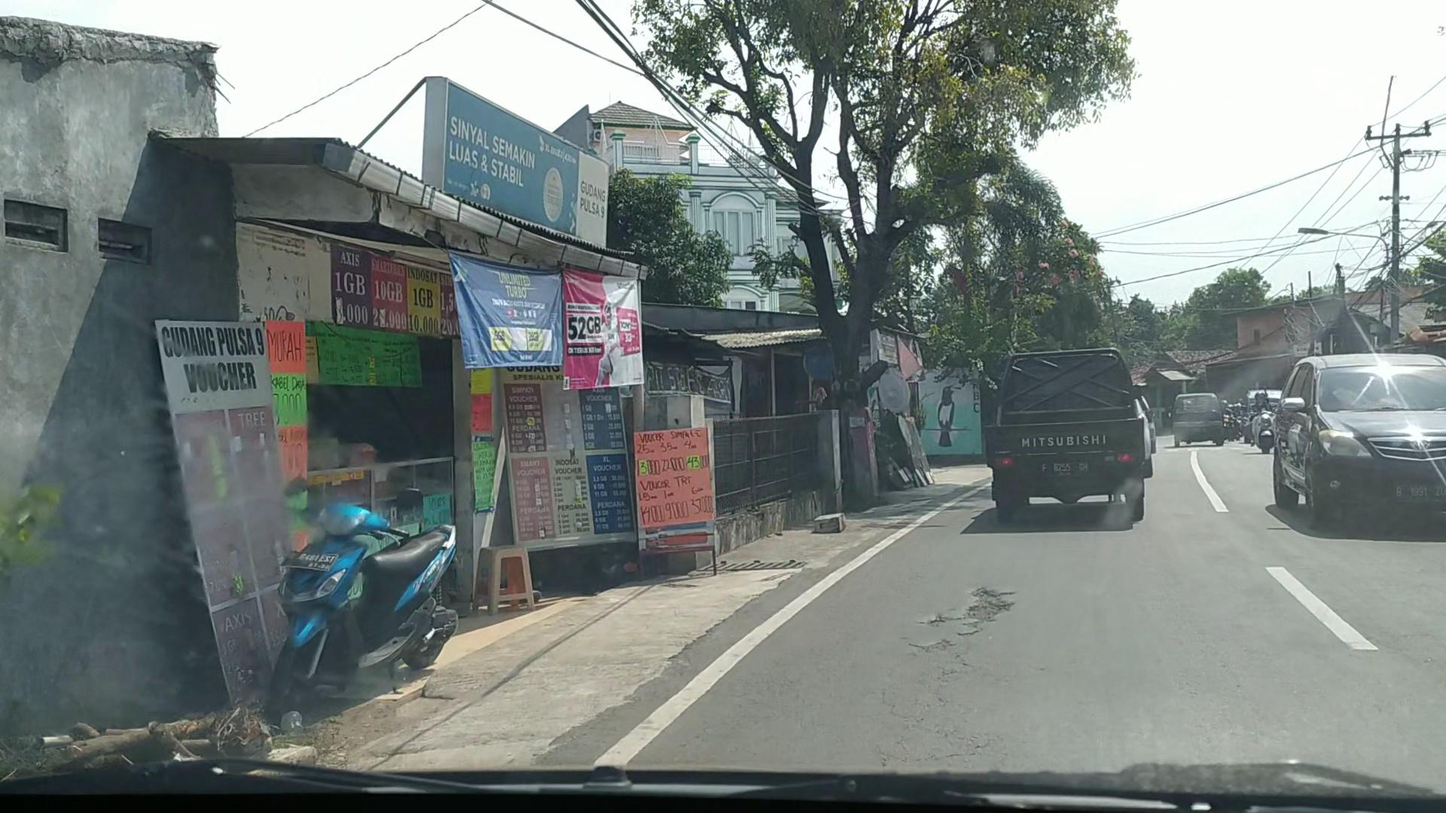pothole: (917, 586, 1016, 639)
